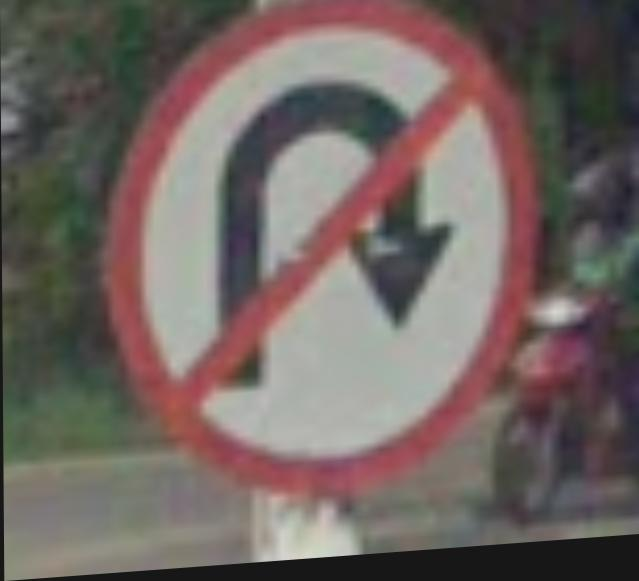not_u_turn_right: (97, 0, 552, 522)
